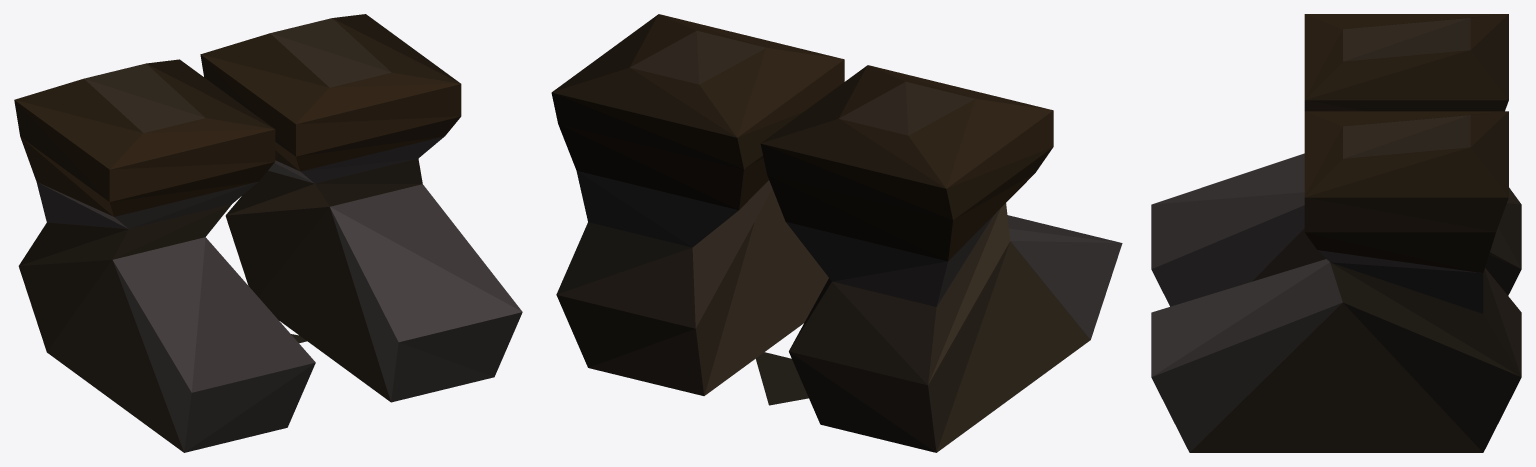
File: iron-boots.obj
The picture shows the model from 3 angles, left to right: view 1: azimuth 30°, elevation 25°; view 2: azimuth 150°, elevation 25°; view 3: azimuth 270°, elevation 25°; orthographic projection. The views are drawn at different scales.
Visible parts, largest first — view 1: Item Iron boots 2026-09-24_18-24-01; view 2: Item Iron boots 2026-09-24_18-24-01; view 3: Item Iron boots 2026-09-24_18-24-01.
Part boxes in pixels (<box>): Item Iron boots 2026-09-24_18-24-01: <box>14,14,522,452</box>; Item Iron boots 2026-09-24_18-24-01: <box>551,14,1122,452</box>; Item Iron boots 2026-09-24_18-24-01: <box>1151,14,1521,452</box>.
Size of the model in its own units: 34 by 25 by 29.
